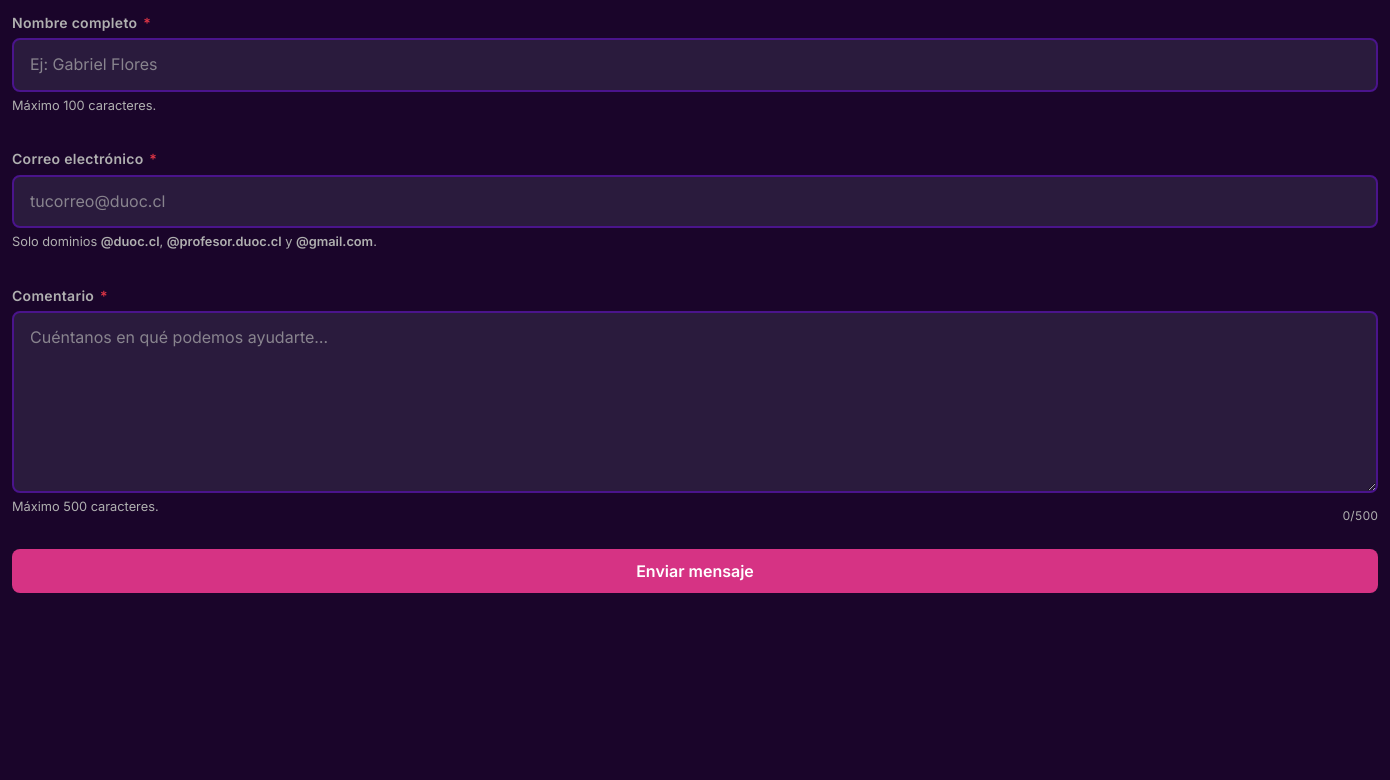
Test: <FormularioContacto /> › ESTADO: el formulario guarda lo que el usuario escribe y actualiza el contador
Type "Hola" into the text box labelled "Comentario *" at (695, 402), box [12,311,1378,493]
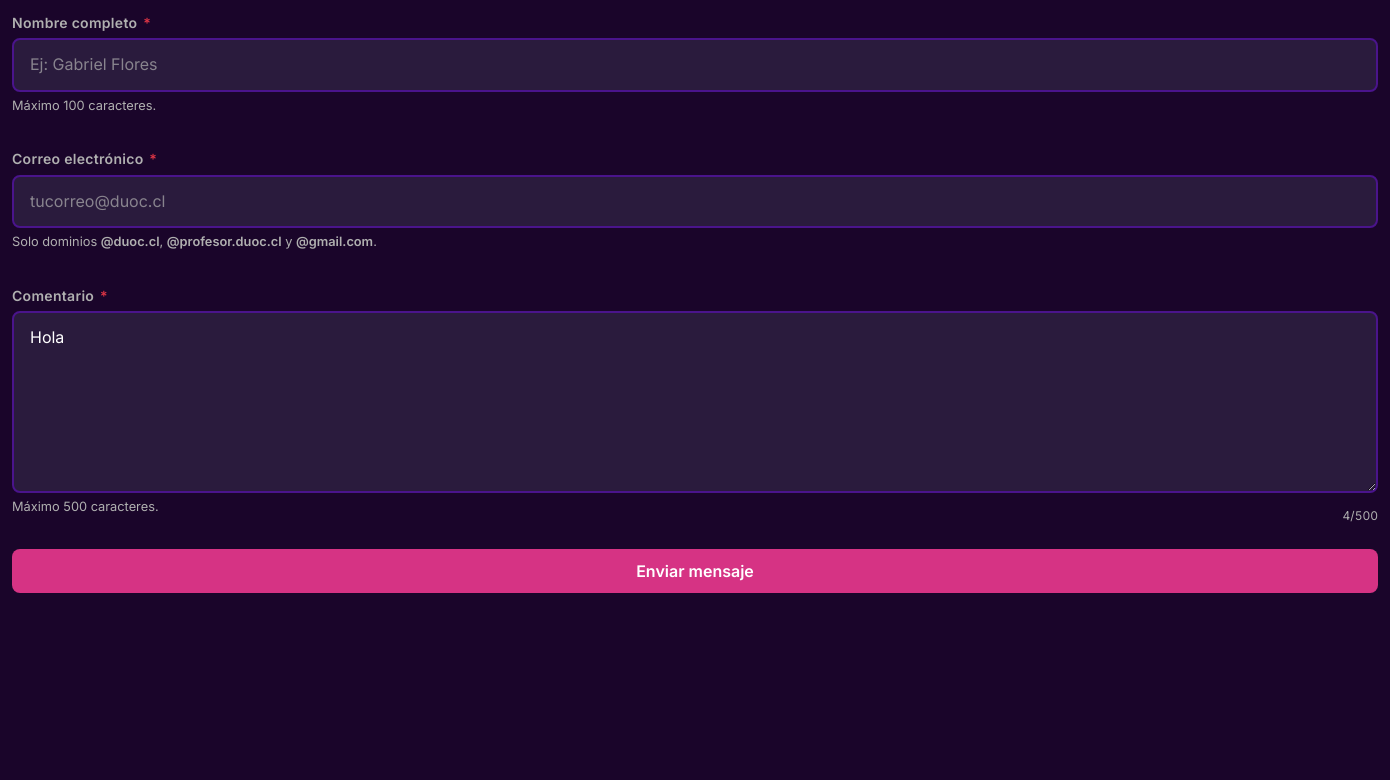
Expected: the text "4/500" is shown, [1342,506,1378,525]
